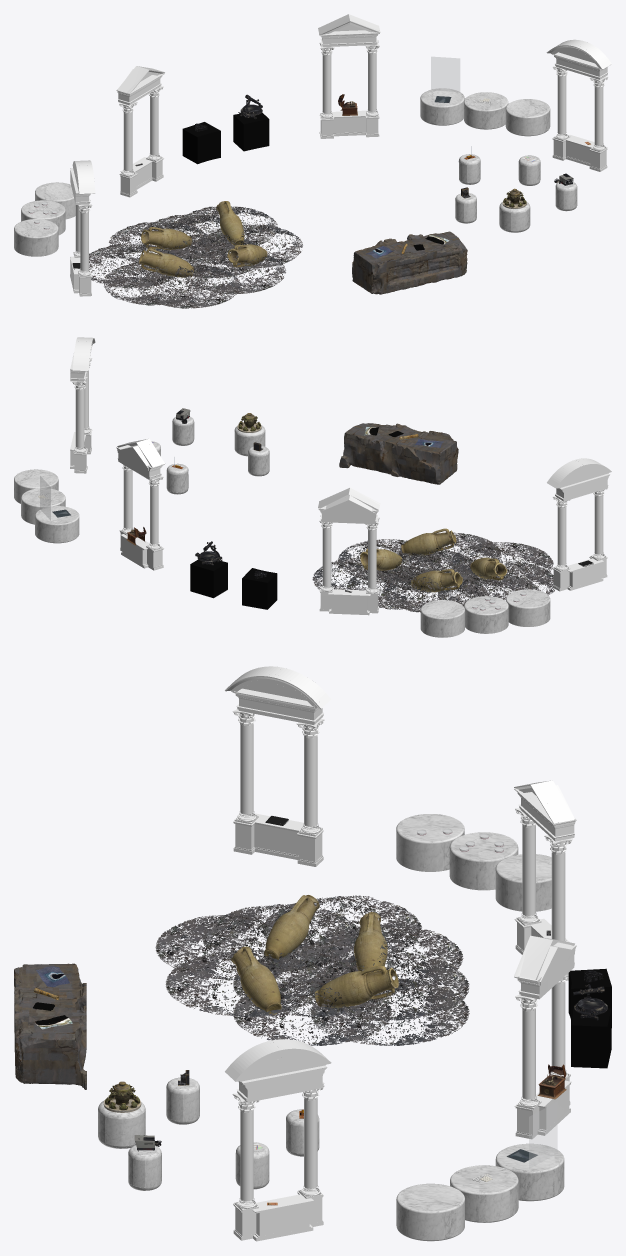
Rendered from artifacts.glb.
The picture shows the model from 3 angles, top to bottom: view 1: azimuth 30°, elevation 25°; view 2: azimuth 150°, elevation 25°; view 3: azimuth 270°, elevation 25°; orthographic projection. The views are drawn at different scales.
Visible parts, largest first — view 1: L05_display_mesh, L01_display_mesh, L04_display_mesh, L02_display_mesh, L03_display_mesh, L06_display_mesh, A1.1, A4.3_veil, A1.4, A1.3, A1.2; view 2: L05_display_mesh, L01_display_mesh, L04_display_mesh, L02_display_mesh, L03_display_mesh, L06_display_mesh, A1.2, A1.4, A1.1, A1.3; view 3: L05_display_mesh, L01_display_mesh, L04_display_mesh, L02_display_mesh, L03_display_mesh, L06_display_mesh, A1.3, A1.1, A1.2, A4.3_veil, A1.4, temp (+2 smaller).
Part boxes in pixels (x1=…): L05_display_mesh: x1=70, y1=14, x2=611, y2=296; L01_display_mesh: x1=89, y1=206, x2=302, y2=308; L04_display_mesh: x1=14, y1=88, x2=550, y2=256; L02_display_mesh: x1=352, y1=231, x2=467, y2=294; L03_display_mesh: x1=455, y1=154, x2=577, y2=232; L06_display_mesh: x1=182, y1=112, x2=269, y2=164; A1.1: x1=139, y1=248, x2=193, y2=277; A4.3_veil: x1=431, y1=57, x2=459, y2=91; A1.4: x1=141, y1=227, x2=192, y2=250; A1.3: x1=216, y1=201, x2=244, y2=245; A1.2: x1=227, y1=244, x2=267, y2=267; L05_display_mesh: x1=70, y1=337, x2=611, y2=615; L01_display_mesh: x1=312, y1=532, x2=554, y2=612; L04_display_mesh: x1=14, y1=469, x2=550, y2=637; L02_display_mesh: x1=339, y1=423, x2=458, y2=484; L03_display_mesh: x1=151, y1=416, x2=269, y2=494; L06_display_mesh: x1=190, y1=559, x2=277, y2=609; A1.2: x1=401, y1=528, x2=456, y2=555; A1.4: x1=411, y1=569, x2=462, y2=592; A1.1: x1=470, y1=557, x2=507, y2=580; A1.3: x1=360, y1=548, x2=402, y2=570; L05_display_mesh: x1=225, y1=666, x2=576, y2=1241; L01_display_mesh: x1=155, y1=895, x2=469, y2=1045; L04_display_mesh: x1=396, y1=814, x2=564, y2=1241; L02_display_mesh: x1=14, y1=963, x2=86, y2=1089; L03_display_mesh: x1=98, y1=1077, x2=319, y2=1190; L06_display_mesh: x1=568, y1=968, x2=611, y2=1068; A1.3: x1=314, y1=965, x2=398, y2=1007; A1.1: x1=264, y1=895, x2=319, y2=959; A1.2: x1=231, y1=946, x2=281, y2=1014; A4.3_veil: x1=529, y1=1102, x2=557, y2=1168; A1.4: x1=354, y1=912, x2=387, y2=972; temp: x1=103, y1=1081, x2=141, y2=1112.
Bounding box in the file's own units: 24.81 × 6.12 × 15.61.
76 materials, 51 textured.
